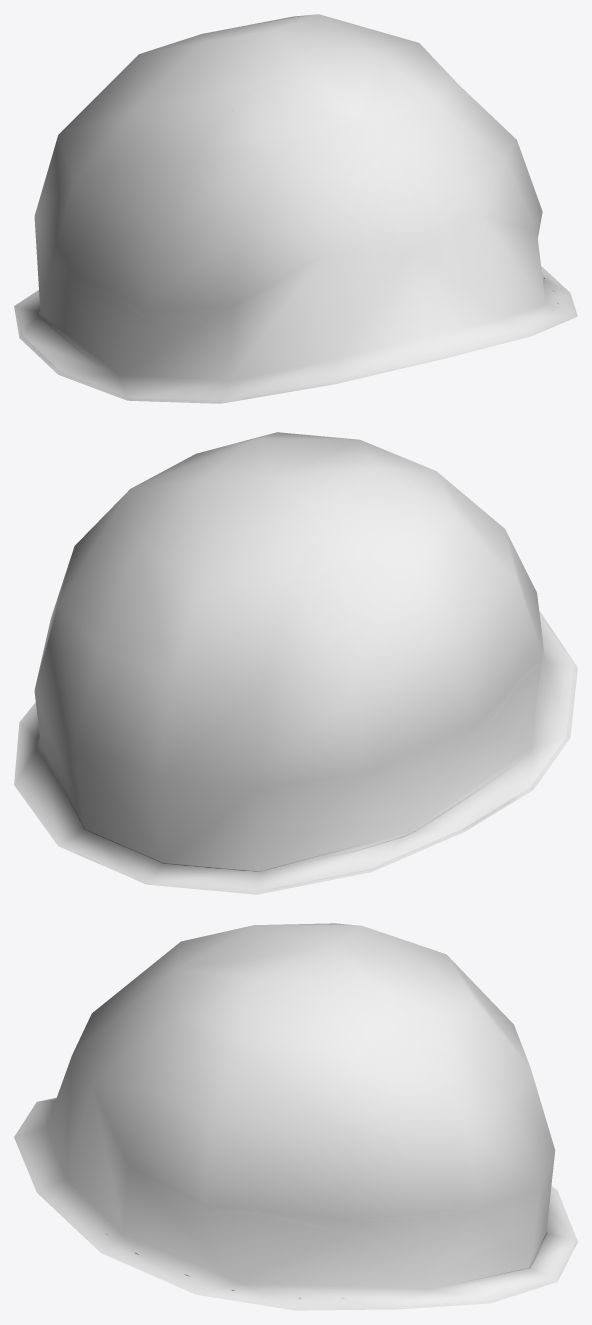
The model's file is simpleHelmet.glb.
3 views of the same model, one above another, from view 1: azimuth 30°, elevation 25°; view 2: azimuth 150°, elevation 25°; view 3: azimuth 270°, elevation 25° (orthographic). The views are drawn at different scales.
Visible parts, largest first — view 1: SimpleHelmet; view 2: SimpleHelmet; view 3: SimpleHelmet.
Part boxes in pixels (x1,y1,x2,y2): SimpleHelmet: [14, 14, 577, 403]; SimpleHelmet: [14, 432, 577, 894]; SimpleHelmet: [14, 923, 577, 1310].
Size of the model in its own units: 10.65 by 6.73 by 11.58.
Materials: 1 (1 with a texture image).
